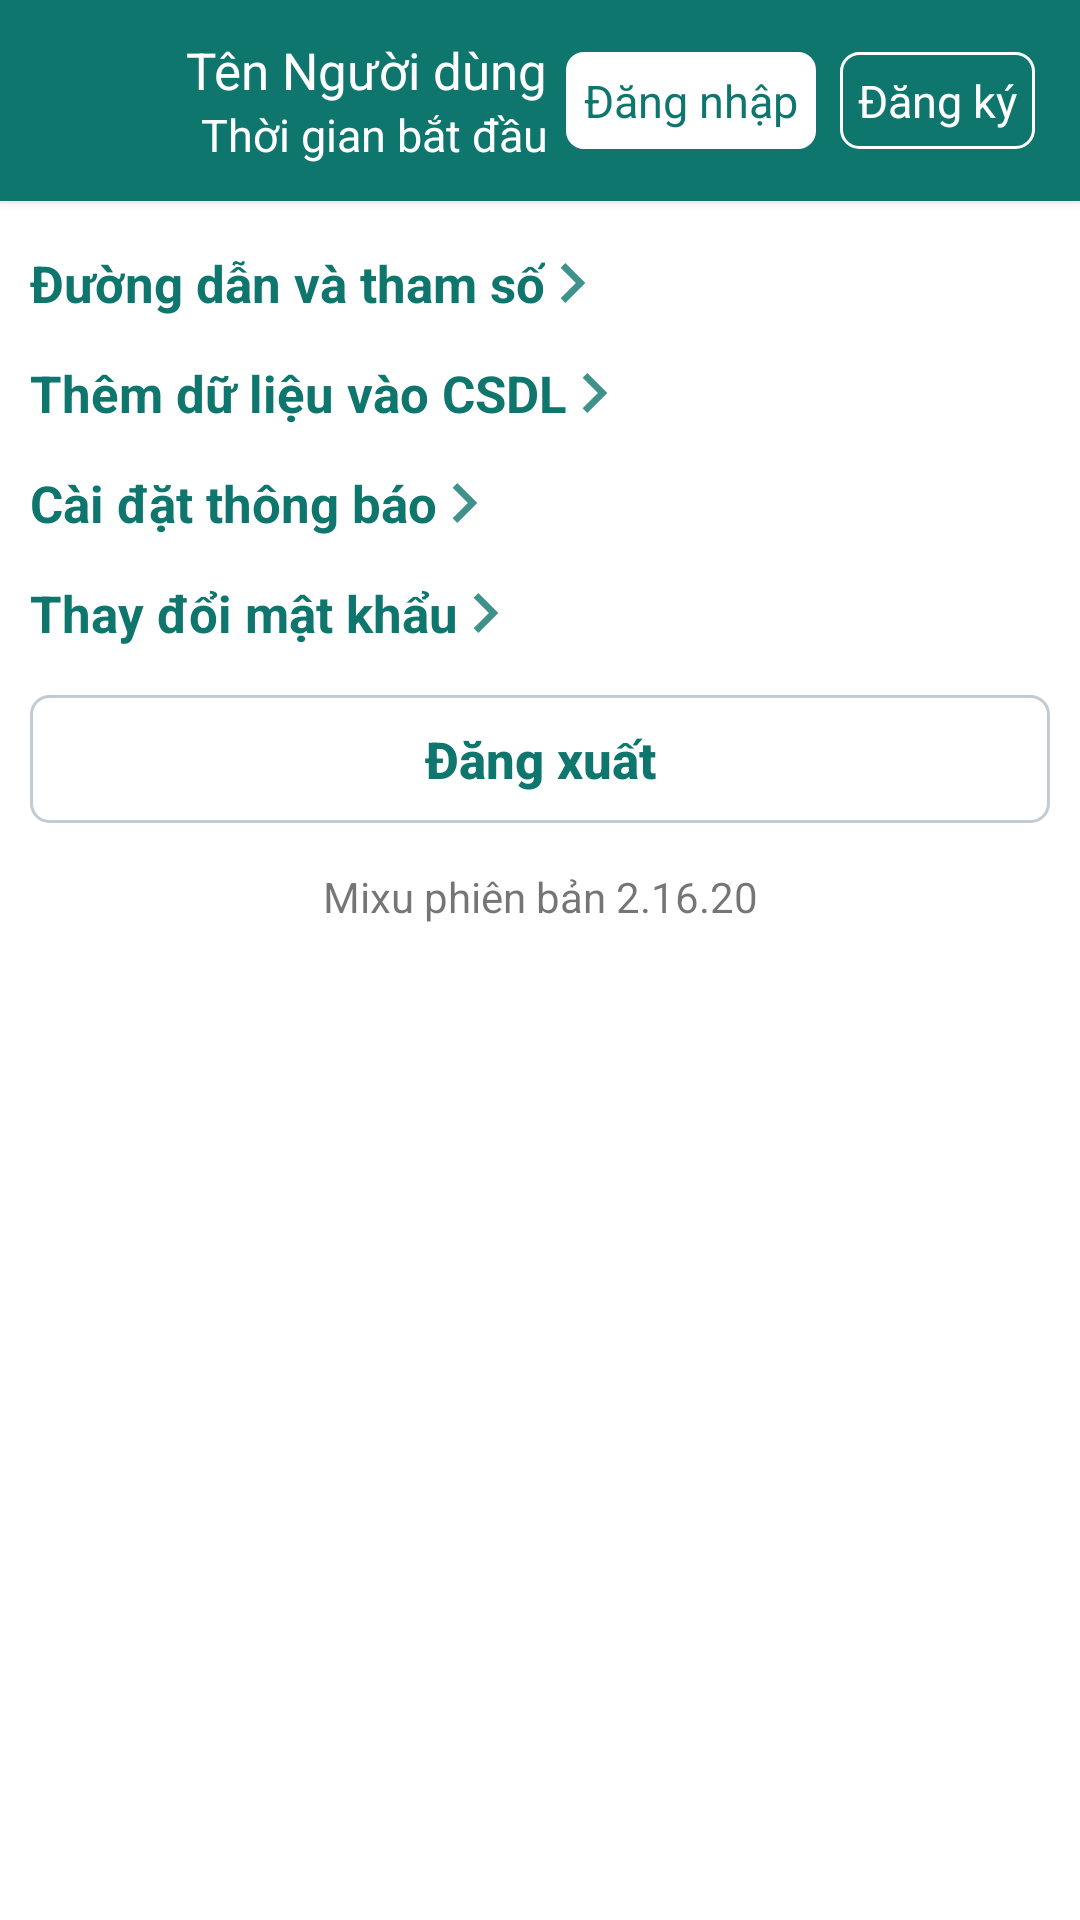

Named icons in this screenshot (1080 x 1920) and their bounding boxes, (x1,y1,x2,y2):
right: (561,263,585,303), (583,373,607,413), (453,483,477,523), (474,593,498,633)
